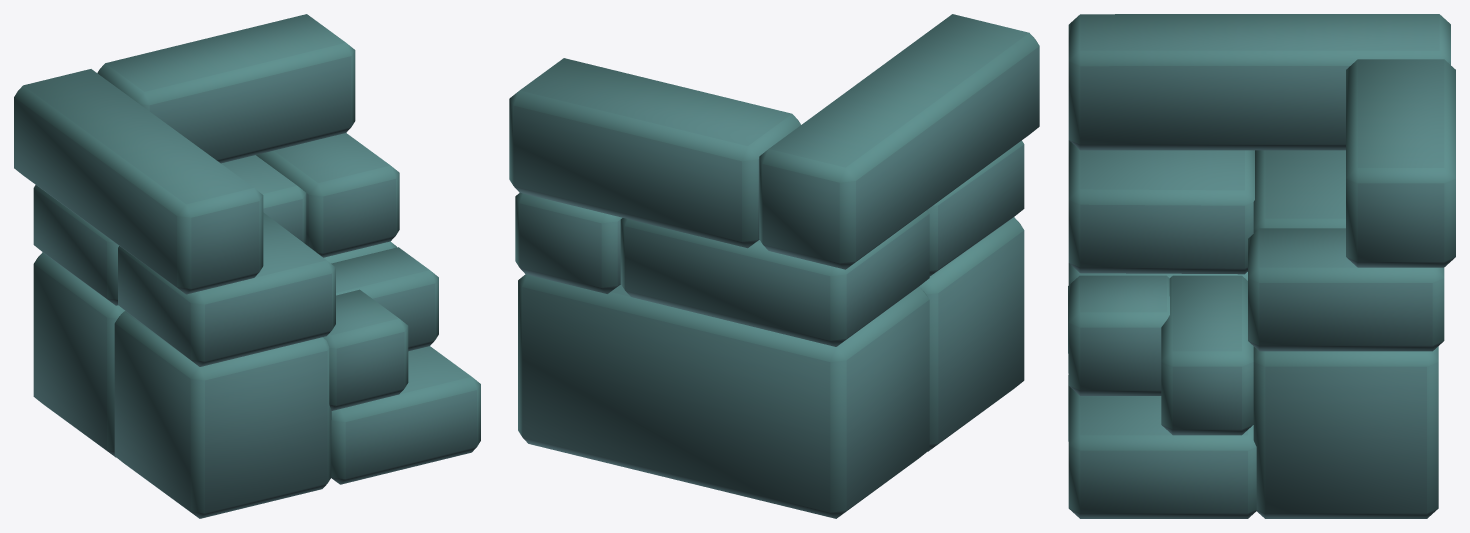
The model's file is stair_corner_concave_hue_1.fbx.
3 views of the same model, side by side, from view 1: azimuth 30°, elevation 25°; view 2: azimuth 150°, elevation 25°; view 3: azimuth 270°, elevation 25° (orthographic). The views are drawn at different scales.
Parts seen in each view (by area): view 1: stair_corner_concave_hue_1; view 2: stair_corner_concave_hue_1; view 3: stair_corner_concave_hue_1.
Boxes of the visible parts, x1,y1,x2,y2 form: stair_corner_concave_hue_1: (14,14,480,518); stair_corner_concave_hue_1: (509,14,1039,518); stair_corner_concave_hue_1: (1068,14,1455,518).
Size of the model in its own units: 105 by 105 by 105.
